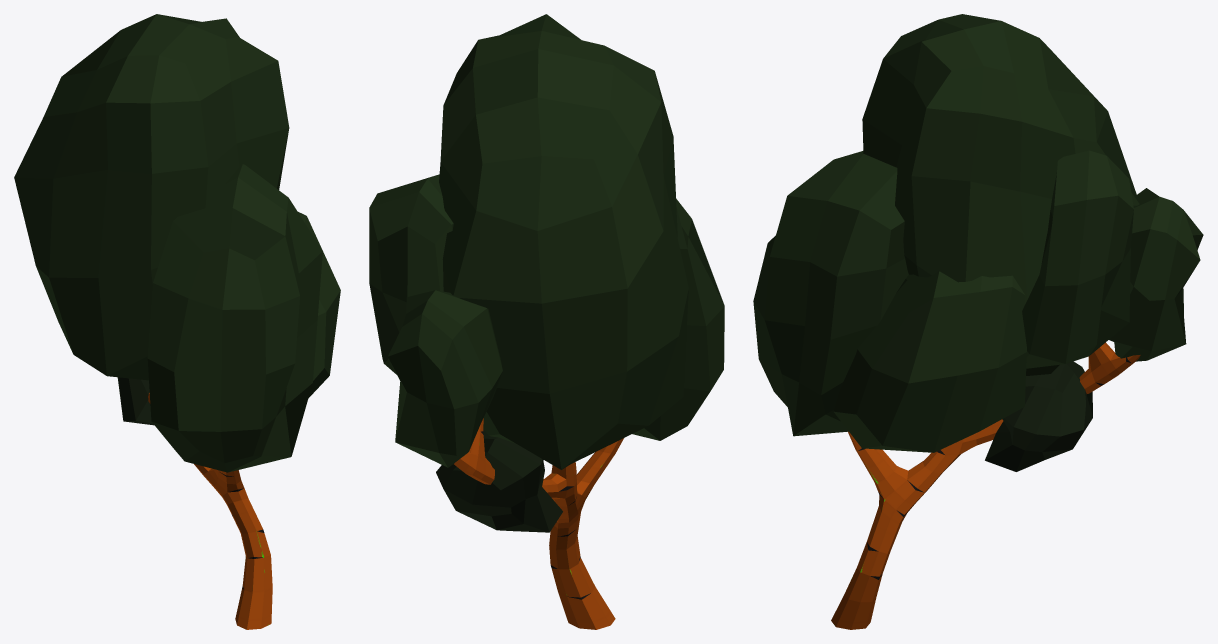
Rendered from tree.obj.
3 views of the same model, side by side, from view 1: azimuth 30°, elevation 25°; view 2: azimuth 150°, elevation 25°; view 3: azimuth 270°, elevation 25° (orthographic). The views are drawn at different scales.
Parts seen in each view (by area): view 1: BirchTree_1; view 2: BirchTree_1; view 3: BirchTree_1.
Part boxes in pixels (left/top/right/bottom): BirchTree_1: left=14, top=14, right=340, bottom=629; BirchTree_1: left=369, top=14, right=724, bottom=629; BirchTree_1: left=753, top=14, right=1203, bottom=629.
Size of the model in its own units: 1.7 by 3.57 by 2.48.
